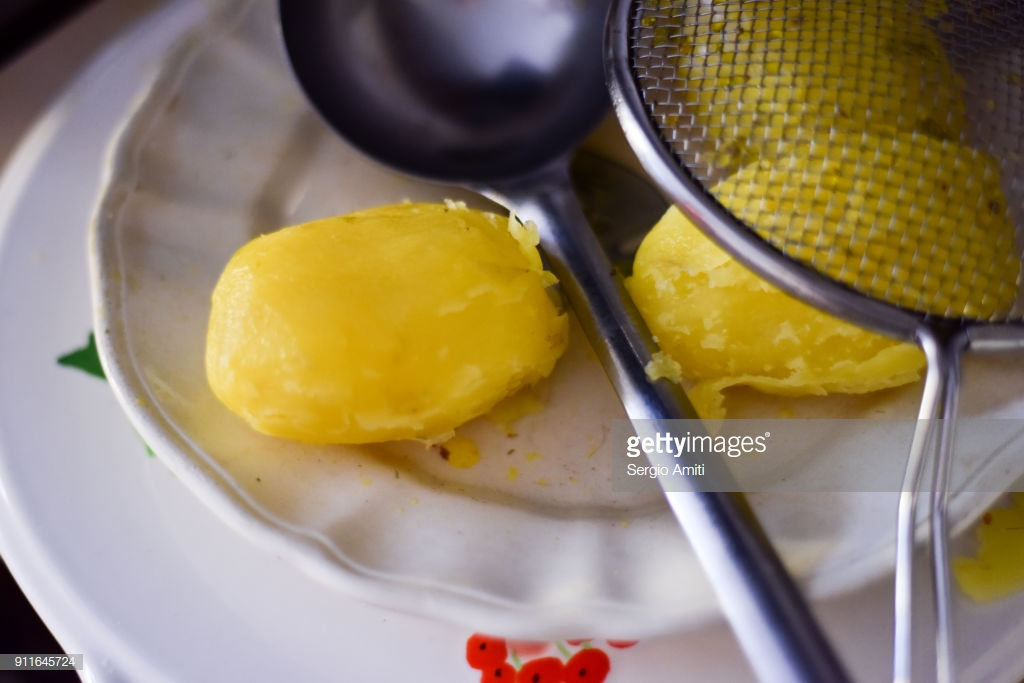boiled potatoes: (217, 210, 545, 446)
